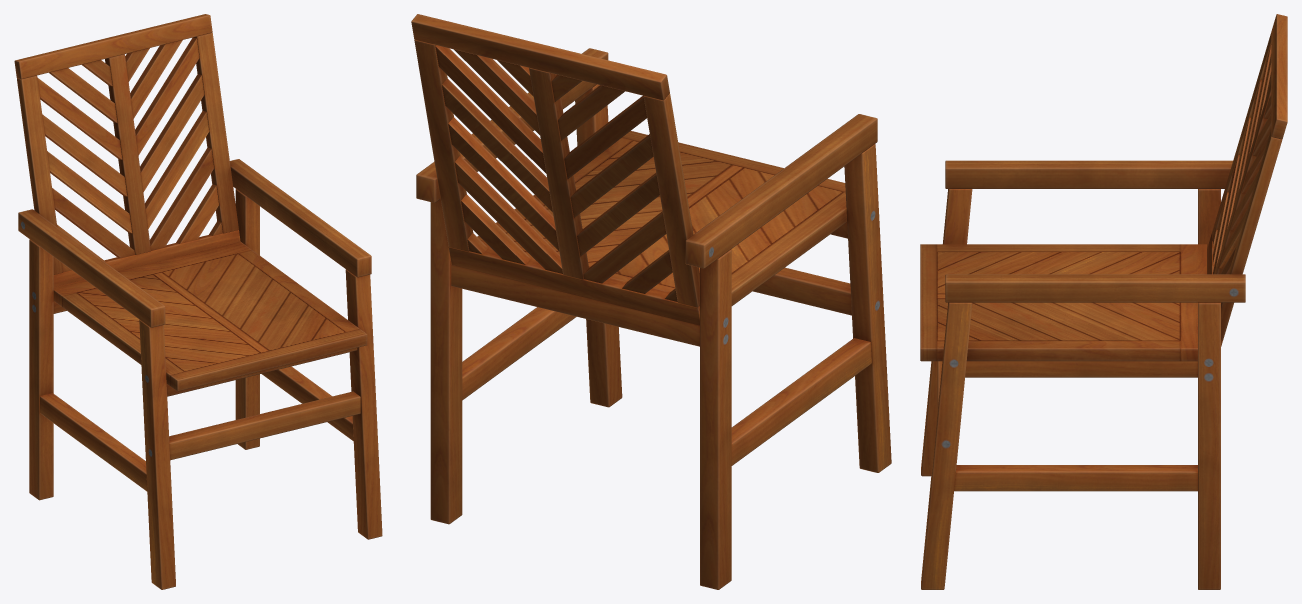
Rendered from GardenFurnitureSet05_2.FBX.
3 renders of one model, left to right at view 1: azimuth 30°, elevation 25°; view 2: azimuth 150°, elevation 25°; view 3: azimuth 270°, elevation 25°, orthographic. The views are drawn at different scales.
Parts seen in each view (by area): view 1: GardenFurnitureSet05_2; view 2: GardenFurnitureSet05_2; view 3: GardenFurnitureSet05_2.
Boxes of the visible parts, x1=… form: GardenFurnitureSet05_2: x1=14, y1=14, x2=382, y2=589; GardenFurnitureSet05_2: x1=411, y1=14, x2=891, y2=589; GardenFurnitureSet05_2: x1=920, y1=14, x2=1287, y2=589.
Size of what is drawn, in the model's own units: 0.5647 by 0.9998 by 0.719.
